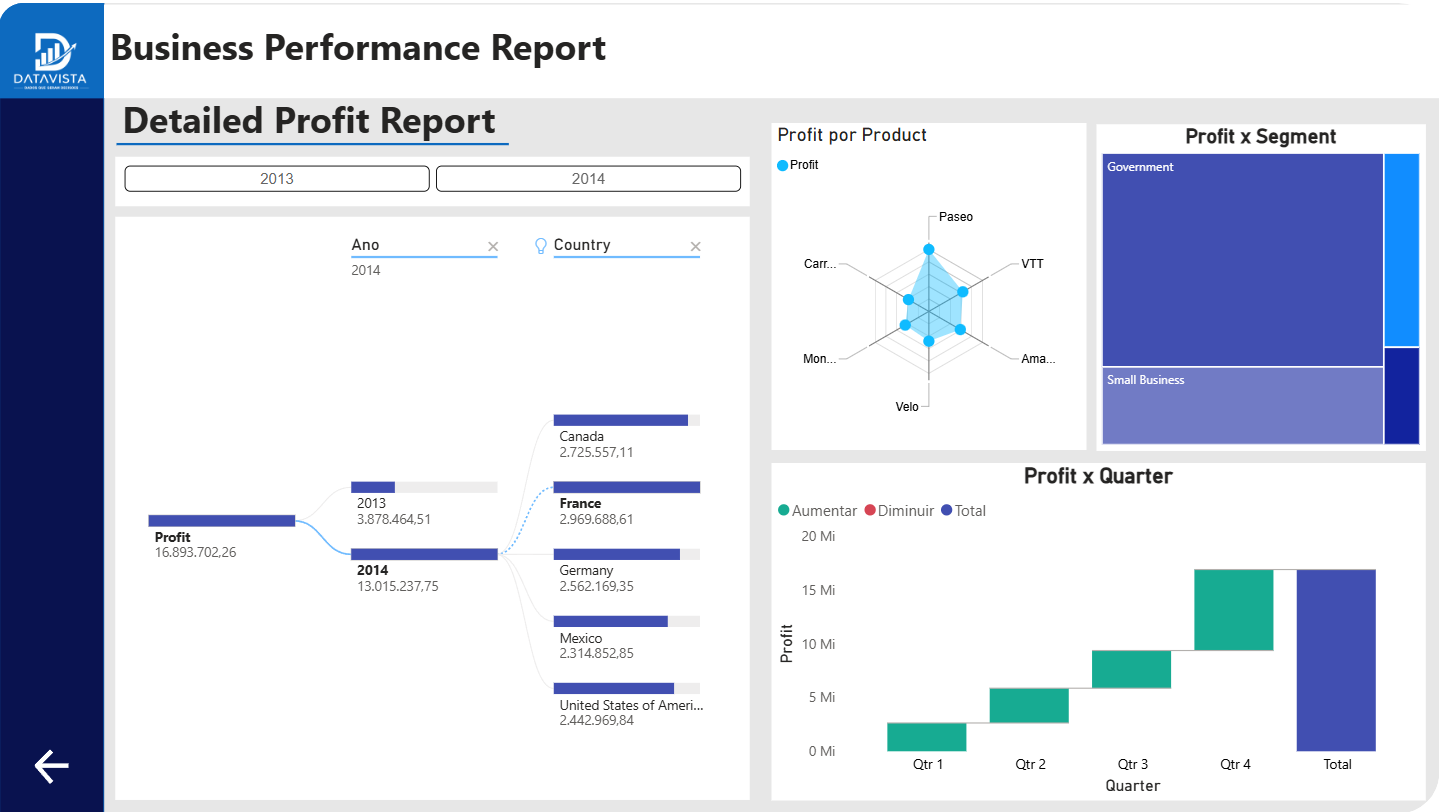

What the dashboard file says about the page in this screenshot:
{"tool":"powerbi","page":{"name":"Página 2","canvas":[1280,720],"ordinal":1},"visuals":[{"type":"shape","box":[0,0,1280.3,720.4],"z":0},{"type":"shape","box":[104,117,348.8,17.5],"z":0,"group":"g1"},{"type":"textbox","box":[104,77,381.2,58.8],"z":1000,"group":"g1"},{"type":"shape","box":[0,0,93.8,720],"z":3000},{"type":"shape","box":[0,0,93.8,85],"z":4000},{"type":"image","title":"Imagem - logo","box":[0,0,93.8,107.5],"z":5000},{"type":"shape","box":[93,1.4,1187,83.7],"z":6000},{"type":"actionButton","box":[27.5,658.8,65,40],"z":7000},{"type":"group","id":"g1","title":"Title","box":[104,77,381.3,58.8],"z":8000},{"type":"decompositionTreeVisual","fields":{"ExplainBy":["financials.Date.Variation.Hierarquia de datas.Ano","financials.Country"],"Analyze":["Sum(financials.Profit)"]},"box":[103.8,190,563.8,518.8],"z":9000},{"type":"ChicletSlicer1448559807354","fields":{"Category":["financials.Date.Variation.Hierarquia de datas.Ano"]},"box":[103.8,136.2,563.8,43.8],"z":10000},{"type":"waterfallChart","title":"Profit x Quarter","fields":{"Y":["Sum(financials.Profit)"],"Category":["financials.Date.Variation.Hierarquia de datas.Trimestre"]},"box":[686.2,408.8,581.2,300],"z":11000},{"type":"treemap","title":"Profit x Segment","fields":{"Values":["Sum(financials.Profit)"],"Group":["financials.Segment"]},"box":[975,107.5,292.5,290],"z":12000},{"type":"RadarChart1446119667547","fields":{"Y":["Sum(financials.Profit)"],"Category":["financials.Product"]},"box":[686.2,106.2,280,290],"z":13000},{"type":"textbox","box":[93.8,11.2,480,63.8],"z":14000}]}

Visuals, with their boxes in screenshot pixels (x1, y1, x2, y2), scaled from the page's 1280x720 canvas onto the 1440x812 screenshot:
shape: 0/0/1439/811
shape: 117/132/509/152
textbox: 117/87/546/153
shape: 0/0/106/811
shape: 0/0/106/96
"Imagem - logo" image: 0/0/106/121
shape: 105/2/1439/96
actionButton: 31/743/104/788
"Title" group: 117/87/546/153
decompositionTreeVisual - financials.Date.Variation.Hierarquia de datas.Ano x financials.Country: 117/214/751/799
ChicletSlicer1448559807354 - financials.Date.Variation.Hierarquia de datas.Ano: 117/154/751/203
"Profit x Quarter" waterfallChart: 772/461/1426/799
"Profit x Segment" treemap: 1097/121/1426/448
RadarChart1446119667547 - Sum(financials.Profit) x financials.Product: 772/120/1087/447
textbox: 106/13/646/85
